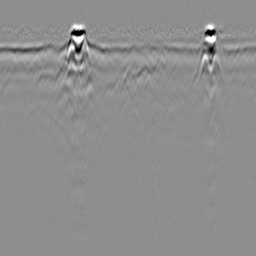cavity: (119, 62, 139, 92)
